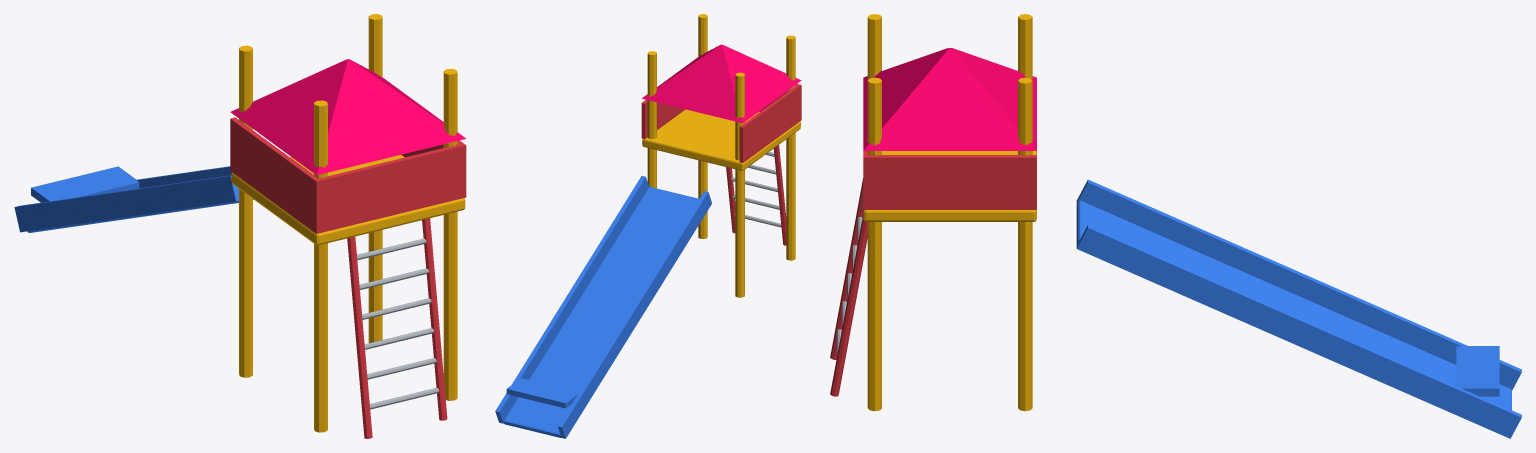
The model's file is sc_slide.glb.
The picture shows the model from 3 angles, left to right: view 1: azimuth 30°, elevation 25°; view 2: azimuth 150°, elevation 25°; view 3: azimuth 270°, elevation 25°; orthographic projection. The views are drawn at different scales.
Parts seen in each view (by area): view 1: Cone, Cube.003, Cube.005, Cube.001, Cylinder.002, Cylinder, Cylinder.001, Cube, Cylinder.003, Cube.007, Cone.001, Cone.002 (+9 smaller); view 2: Cube.004, Cone, Cube, Cube.005, Cube.006, Cube.001, Cylinder.001, Cylinder, Cube.007, Cylinder.003, Cylinder.002, Cube.002 (+2 smaller); view 3: Cone, Cube.006, Cube.005, Cube.002, Cube.004, Cylinder.003, Cylinder.002, Cube, Cube.007, Cone.002, Cylinder, Cylinder.001 (+1 smaller).
Boxes of the visible parts, left/top/right/bottom form: Cone: left=230, top=59, right=465, bottom=175; Cube.003: left=314, top=144, right=466, bottom=233; Cube.005: left=14, top=175, right=238, bottom=232; Cube.001: left=230, top=117, right=321, bottom=233; Cylinder.002: left=443, top=68, right=457, bottom=400; Cylinder: left=314, top=100, right=327, bottom=432; Cylinder.001: left=239, top=45, right=252, bottom=377; Cube: left=231, top=155, right=465, bottom=245; Cylinder.003: left=368, top=14, right=382, bottom=343; Cube.007: left=31, top=166, right=139, bottom=202; Cone.001: left=347, top=236, right=372, bottom=438; Cone.002: left=422, top=218, right=447, bottom=420; Cube.004: left=503, top=187, right=698, bottom=437; Cone: left=642, top=44, right=801, bottom=123; Cube: left=642, top=109, right=800, bottom=170; Cube.005: left=558, top=191, right=711, bottom=438; Cube.006: left=495, top=176, right=648, bottom=423; Cube.001: left=739, top=84, right=801, bottom=162; Cylinder.001: left=735, top=72, right=744, bottom=297; Cylinder: left=786, top=35, right=795, bottom=260; Cube.007: left=506, top=378, right=578, bottom=408; Cylinder.003: left=647, top=51, right=656, bottom=188; Cylinder.002: left=698, top=14, right=707, bottom=238; Cube.002: left=641, top=100, right=685, bottom=138; Cone: left=863, top=48, right=1036, bottom=150; Cube.006: left=1076, top=225, right=1521, bottom=438; Cube.005: left=1076, top=179, right=1521, bottom=390; Cube.002: left=863, top=155, right=1036, bottom=209; Cube.004: left=1076, top=200, right=1511, bottom=410; Cylinder.003: left=1018, top=77, right=1032, bottom=411; Cylinder.002: left=867, top=77, right=881, bottom=411; Cube: left=863, top=151, right=1036, bottom=221; Cube.007: left=1456, top=346, right=1499, bottom=396; Cone.002: left=830, top=215, right=867, bottom=396; Cylinder: left=867, top=14, right=881, bottom=79; Cylinder.001: left=1018, top=14, right=1032, bottom=79.
Size of the model in its own units: 120 by 280 by 478.
